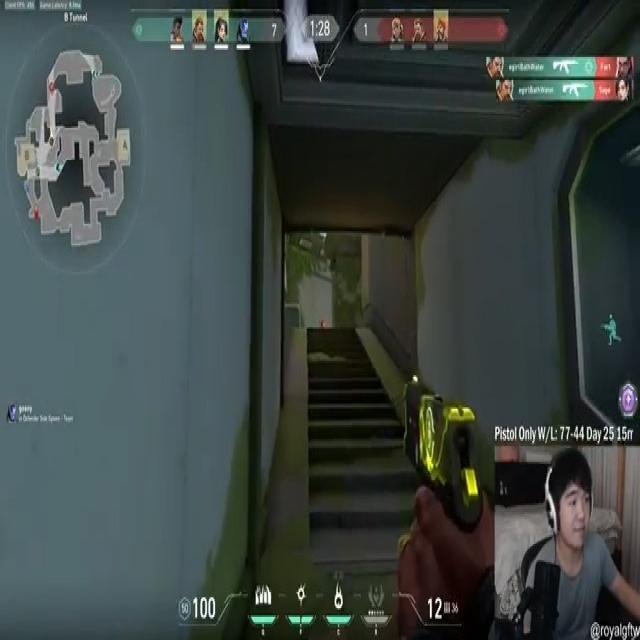enemy: (321, 317, 326, 330)
